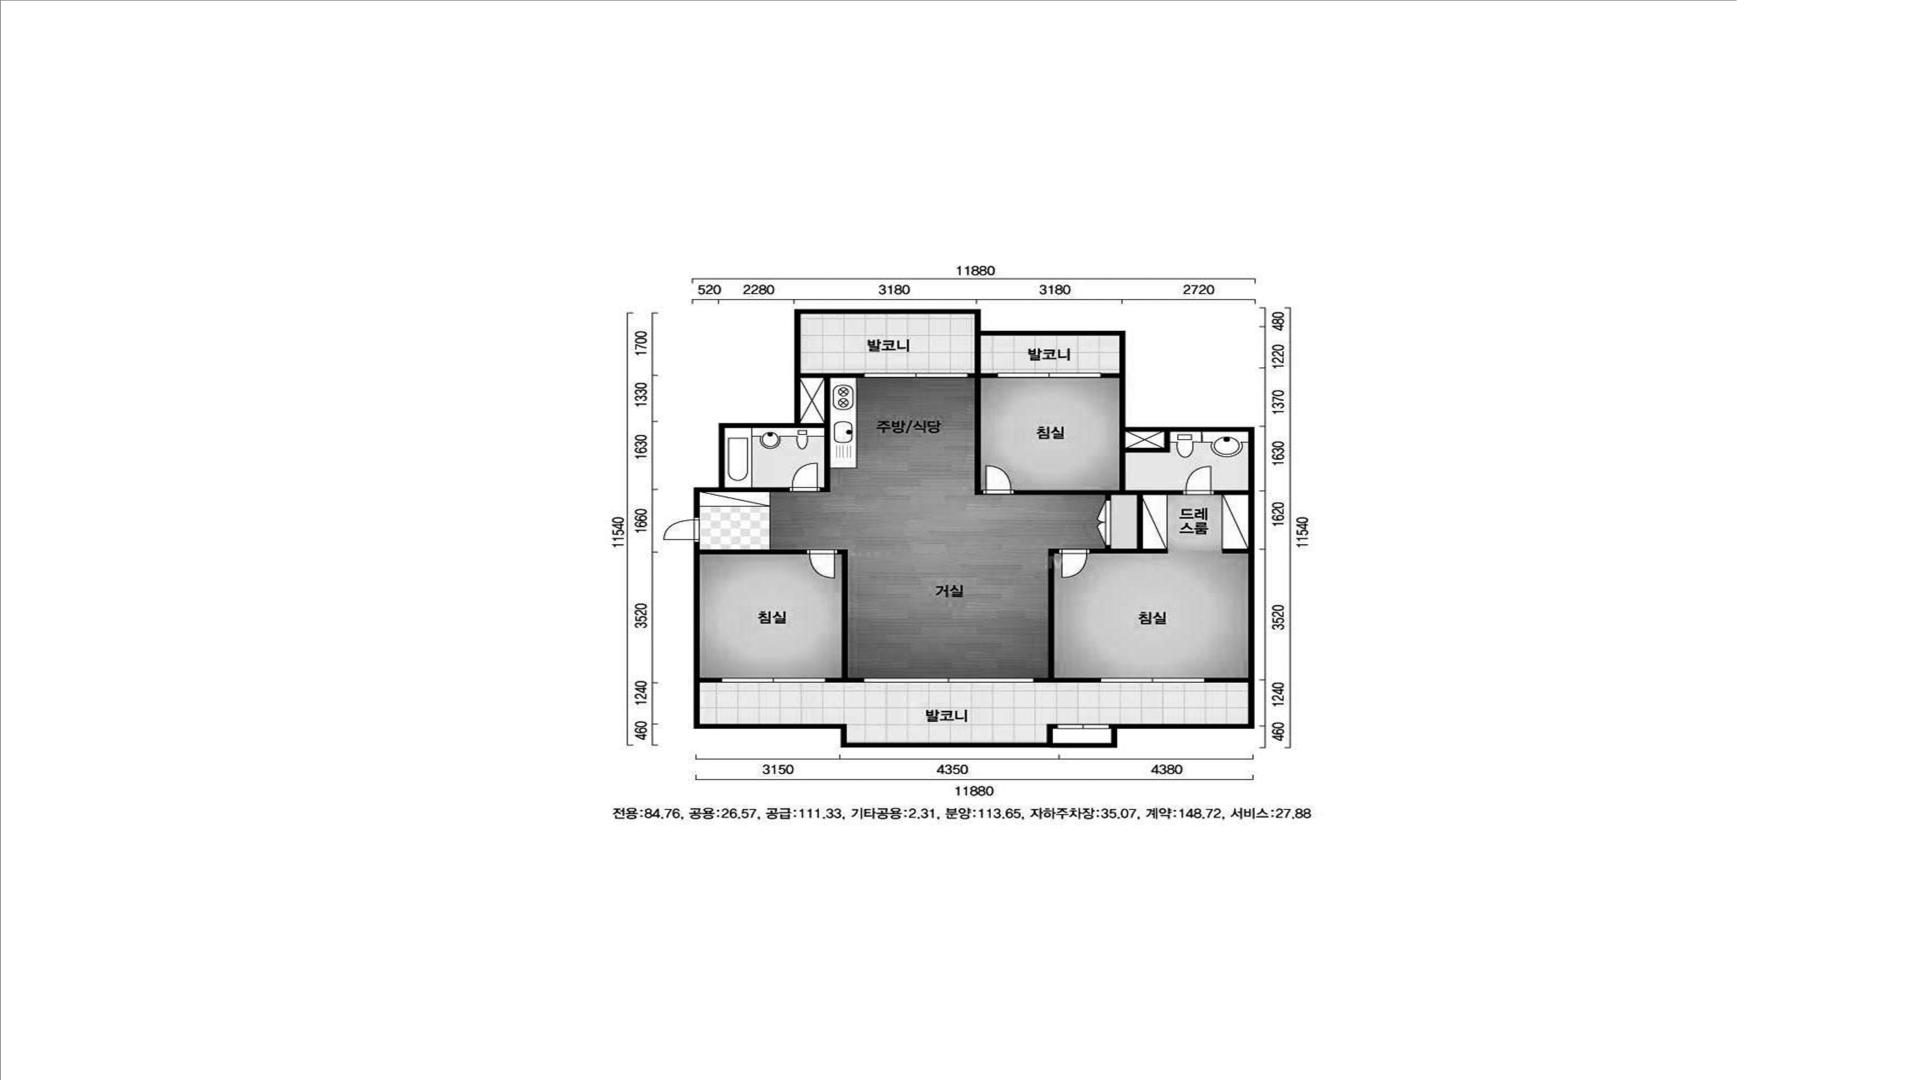door: (789, 462, 820, 492), (1059, 549, 1089, 579), (807, 549, 837, 579), (982, 465, 1014, 495), (663, 517, 699, 542), (1183, 465, 1213, 495), (1058, 724, 1109, 729)
wall: (694, 309, 1254, 748), (1014, 431, 1183, 554), (1034, 549, 1101, 683), (800, 373, 865, 492), (825, 550, 864, 682), (968, 335, 998, 495), (700, 550, 807, 554), (725, 488, 789, 492), (1047, 724, 1058, 744), (1204, 678, 1249, 682), (1213, 491, 1249, 495), (1222, 549, 1249, 554), (700, 678, 723, 683), (1101, 373, 1120, 378), (1109, 724, 1112, 728)
window: (864, 678, 1034, 683), (997, 373, 1101, 378), (864, 373, 968, 378), (721, 678, 825, 683), (1101, 678, 1204, 683)
